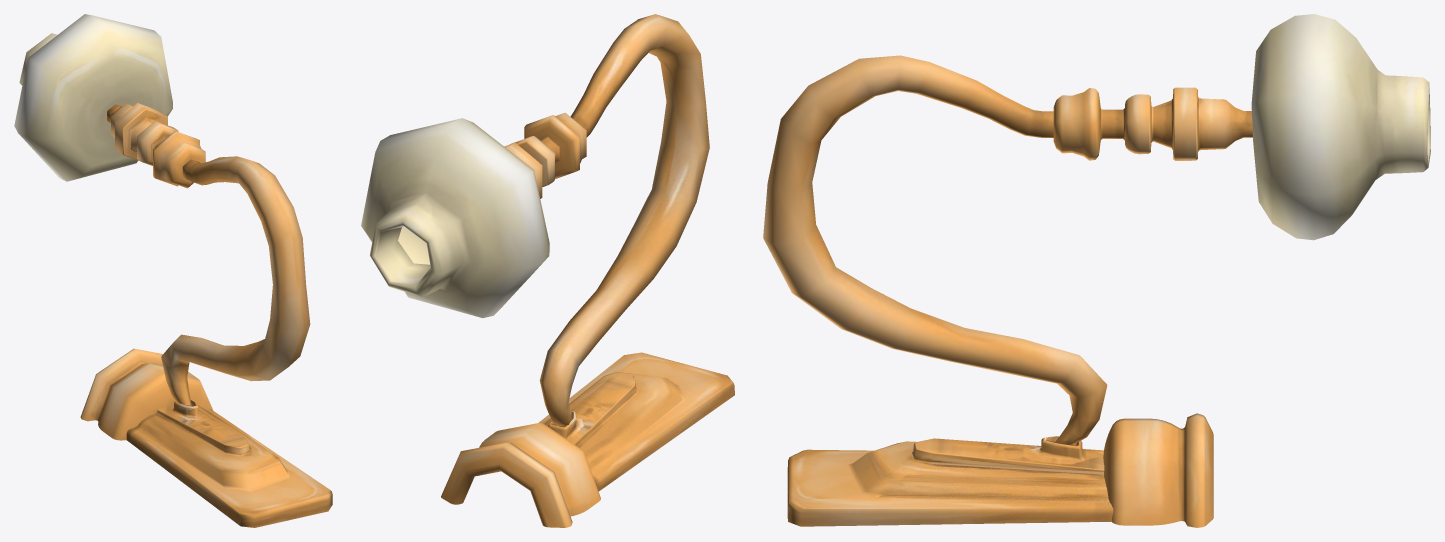
Rendered from Candelabro Pared Fin.FBX.
3 views of the same model, side by side, from view 1: azimuth 30°, elevation 25°; view 2: azimuth 150°, elevation 25°; view 3: azimuth 270°, elevation 25° (orthographic). The views are drawn at different scales.
Visible parts, largest first — view 1: Candelabro0; view 2: Candelabro0; view 3: Candelabro0.
Part boxes in pixels (x1,y1,x2,y2): Candelabro0: [14, 14, 332, 527]; Candelabro0: [361, 14, 734, 527]; Candelabro0: [763, 14, 1430, 527].
Size of the model in its own units: 17.06 by 39.5 by 49.52.
Materials: 1 (1 with a texture image).
